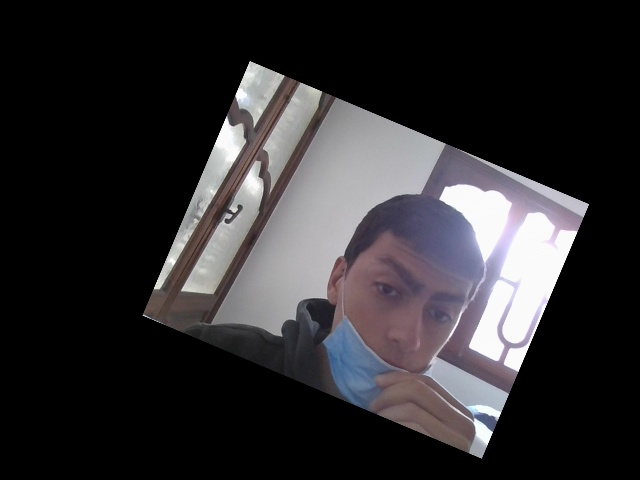mask_weared_incorrect: (326, 219, 475, 424)
